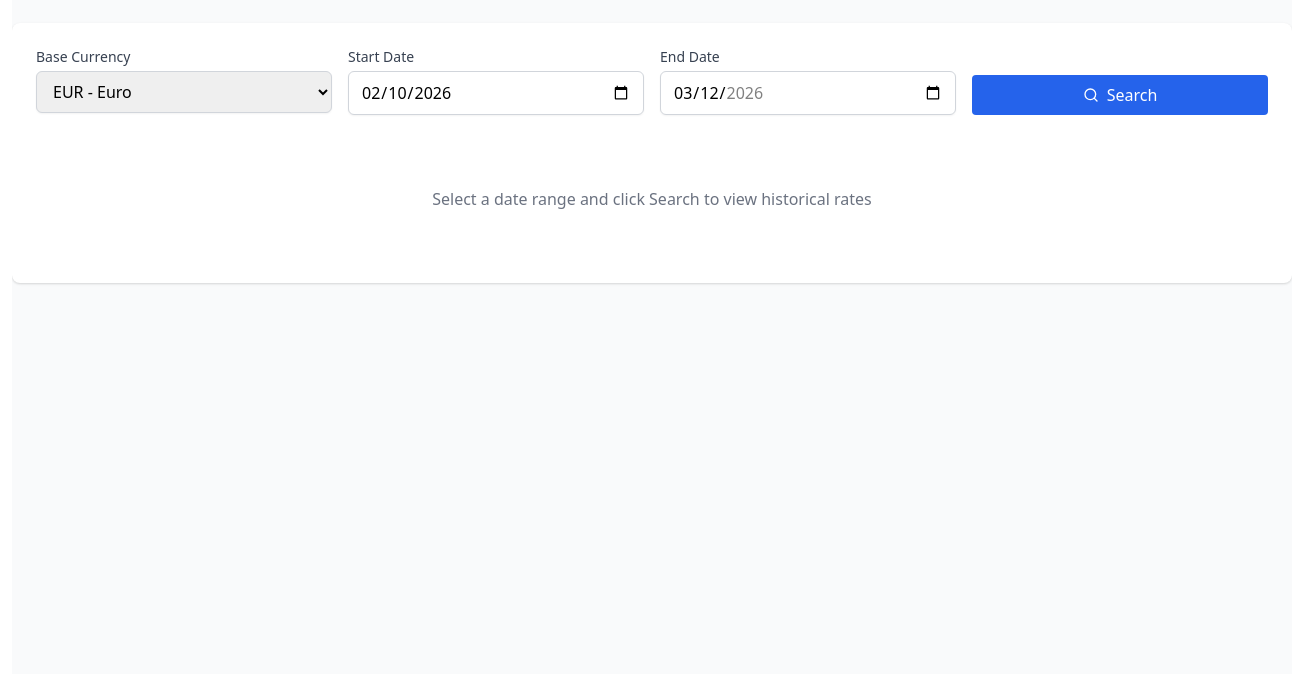
it: HistoryPage › resets to page 1 when search parameters change
# Perform initial search
Click the button "Search".
click(1120, 95)  # box [972, 75, 1268, 115]
(page scrolled)
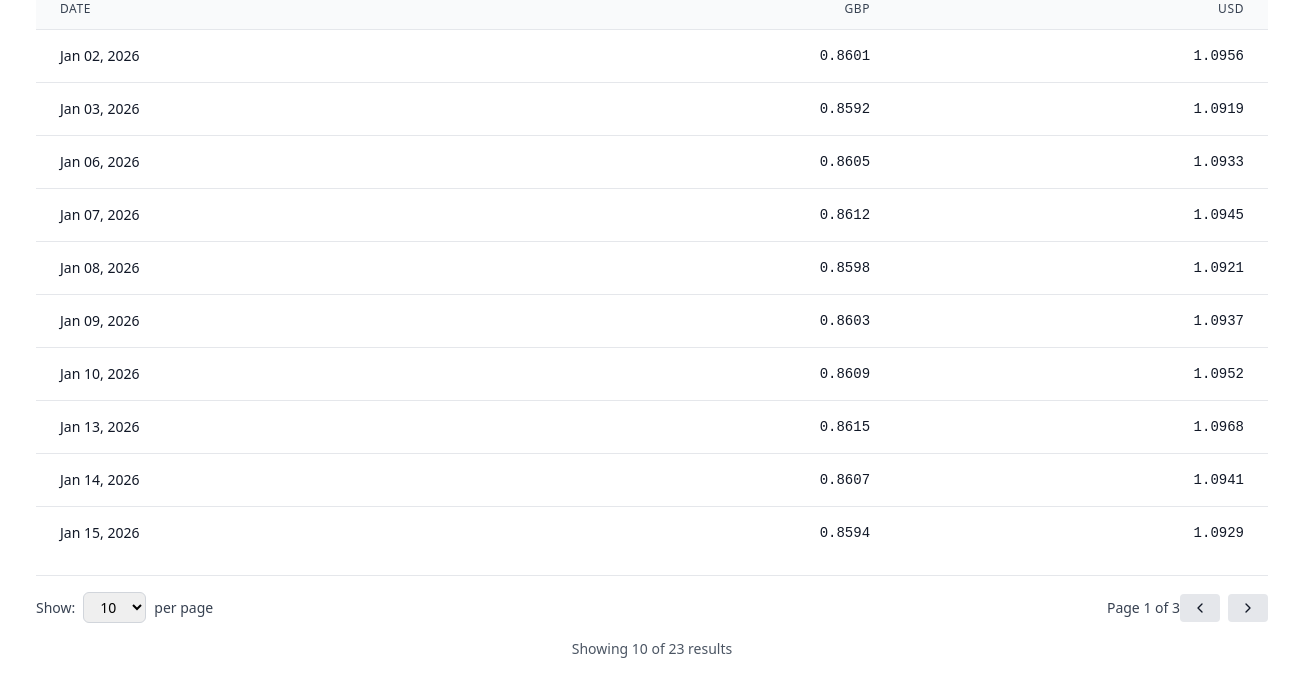
Expected: the text "Page 1 of 3" is shown, [1107, 598, 1180, 618]
# Go to page 2
Click the button named "next".
click(1248, 608)  # box [1228, 594, 1268, 622]
(page scrolled)
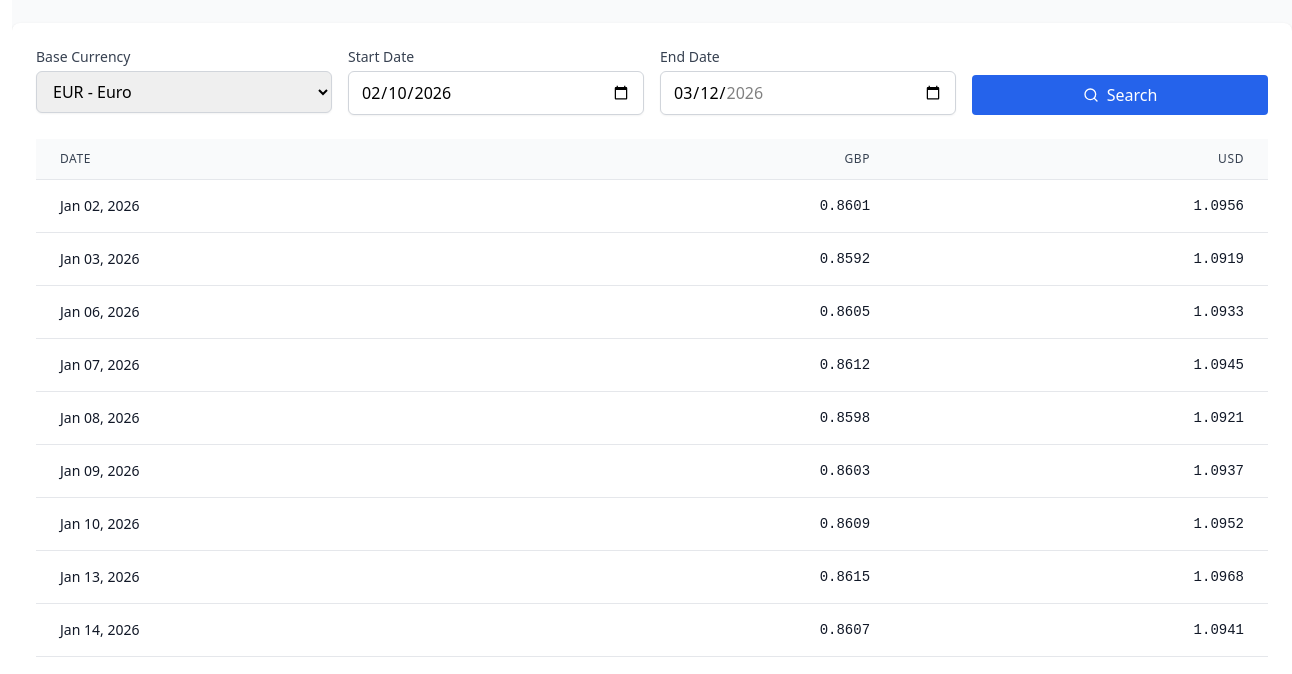
# Change base currency and search again
Select "USD - United States Dollar" in the dropdown labelled "Base Currency" at coordinates (184, 92), box [36, 71, 332, 113]
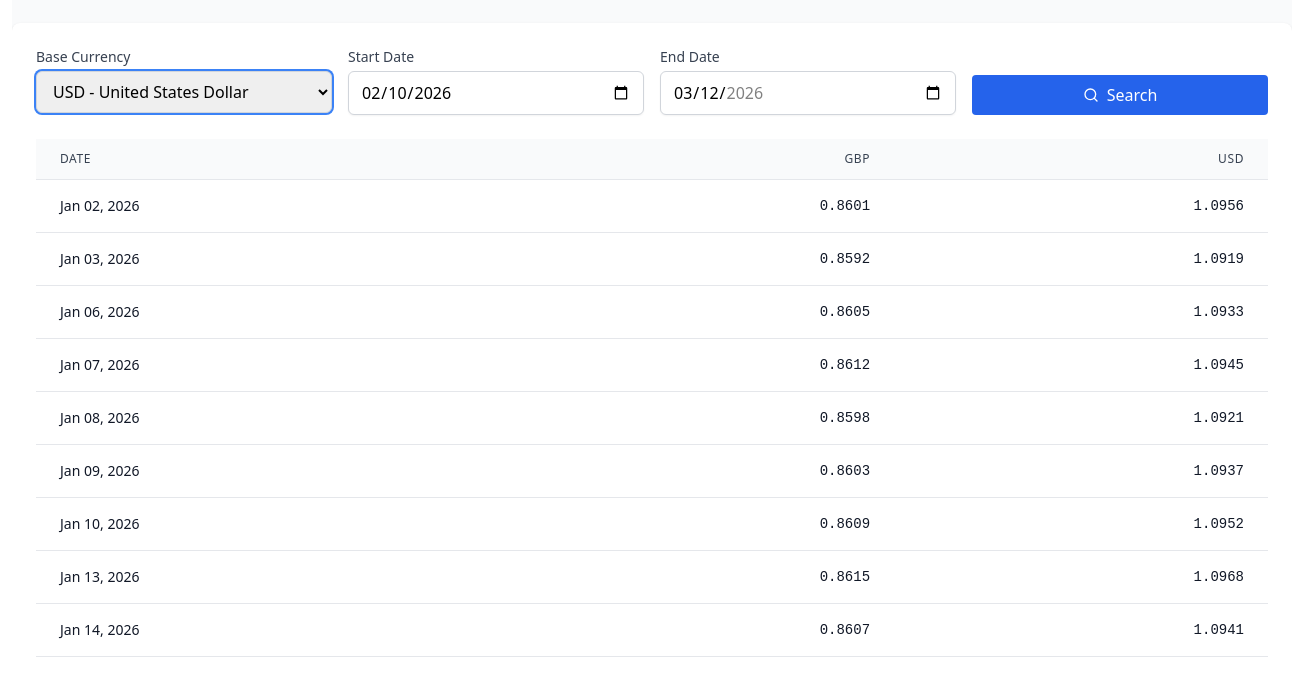
Click the button "Search".
click(1120, 95)  # box [972, 75, 1268, 115]
(page scrolled)
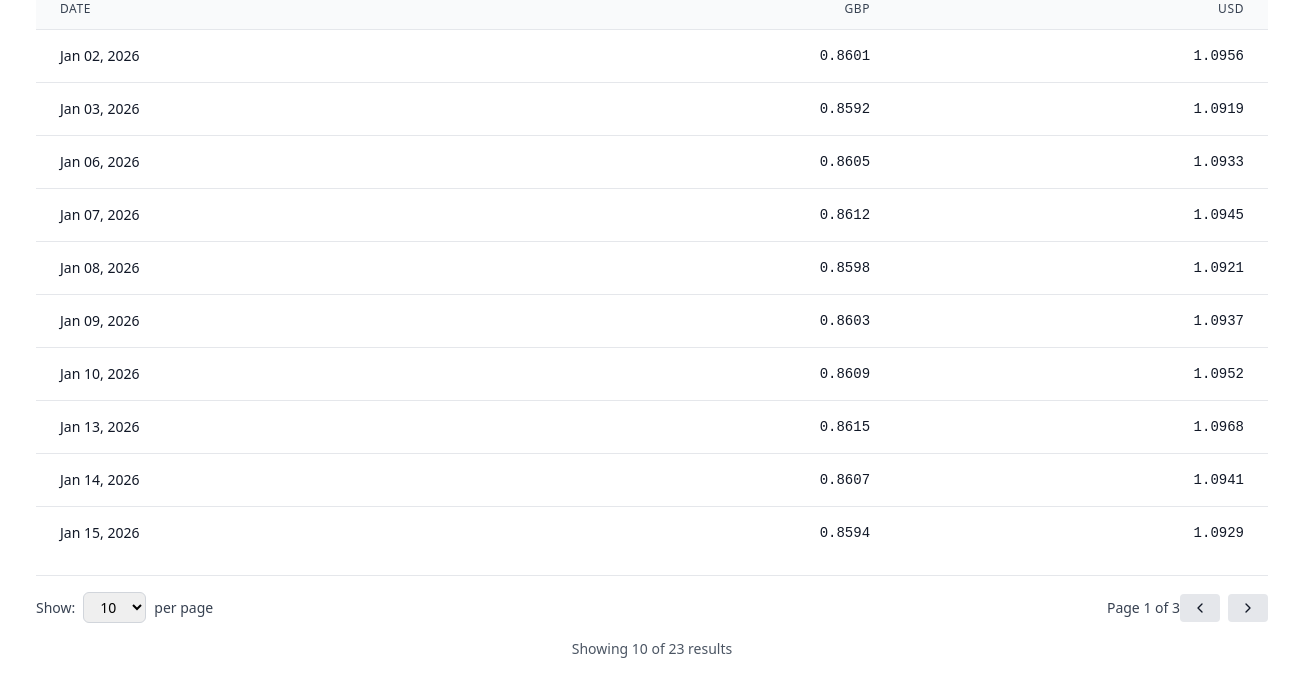
Expected: the text "Page 1 of 3" is shown, [1107, 598, 1180, 618]
